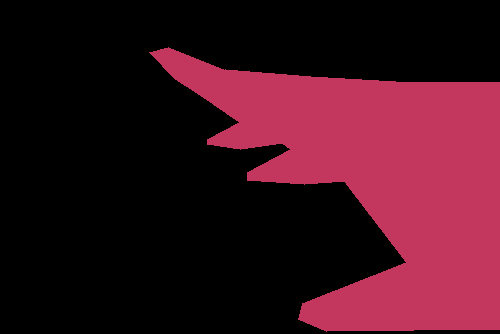Airplane: (149, 47, 500, 331)
